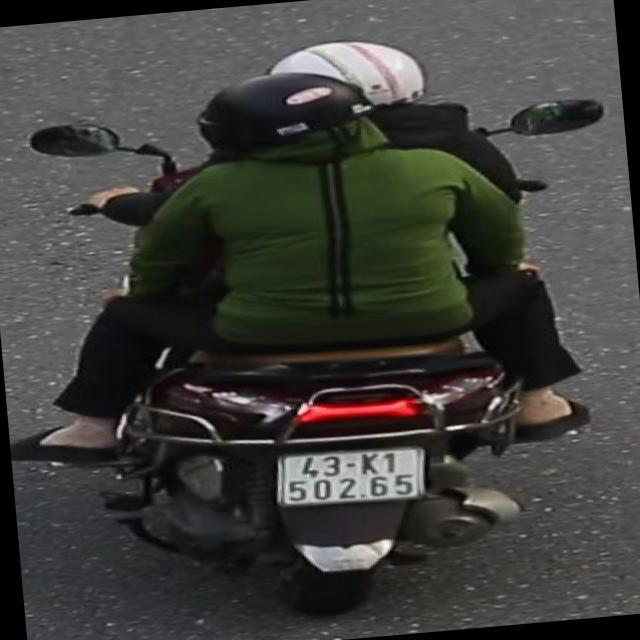LP: (266, 440, 440, 513)
helmet: (186, 64, 388, 188), (262, 28, 438, 120)
